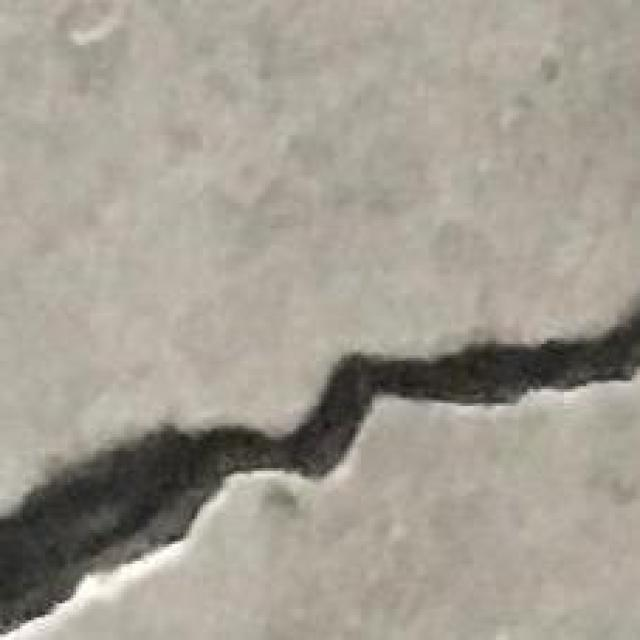diagonal crack: (0, 303, 639, 634)
